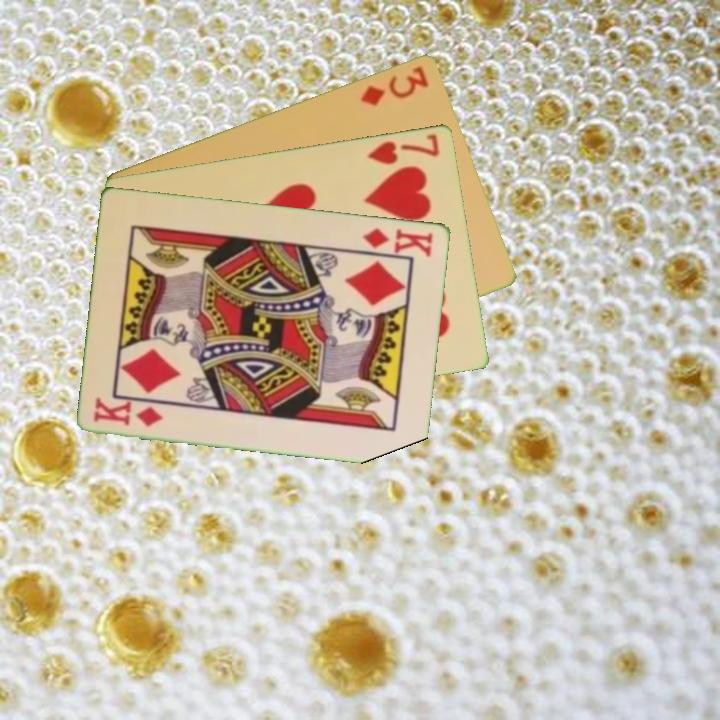3d: (356, 62, 432, 109)
7h: (364, 130, 443, 167)
Kd: (359, 224, 436, 260), (90, 395, 167, 429)
